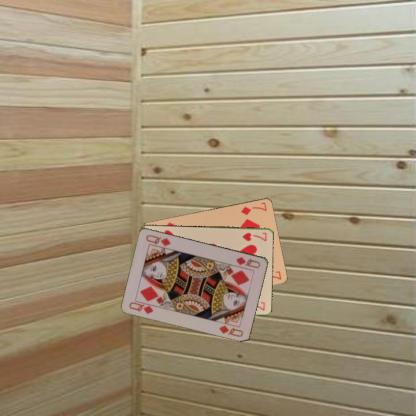7d: (238, 199, 268, 216)
7h: (240, 230, 268, 243)
Qd: (127, 297, 158, 315), (233, 254, 262, 269)
